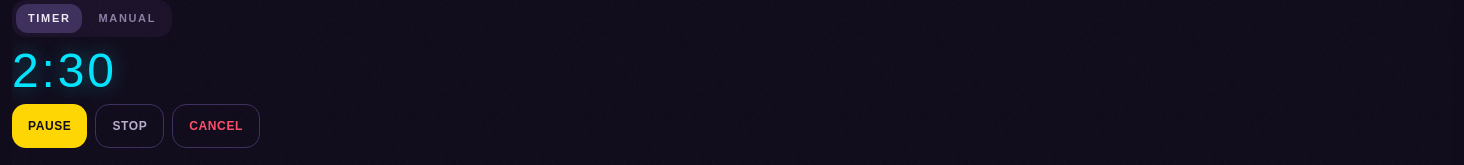
TimedExerciseInput manual mode › decomposes timer seconds into H/M/S fields when switching from running timer
Click the button "Manual".
click(127, 18)  # box [86, 4, 168, 32]
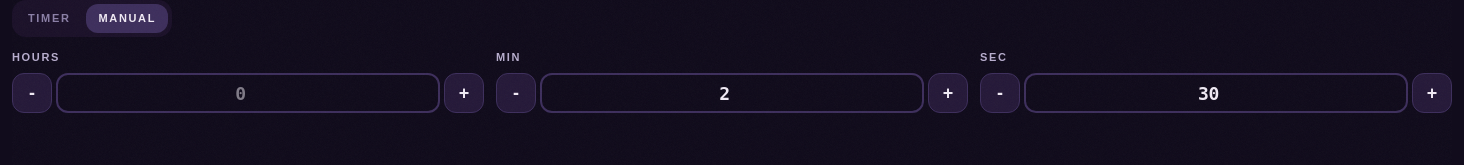
Now the number field with placeholder "0" is not empty, box [56, 73, 440, 113]
Now the number field below "Min" holds "2", box [540, 73, 924, 113]
Now the number field below "Sec" holds "30", box [1024, 73, 1408, 113]
